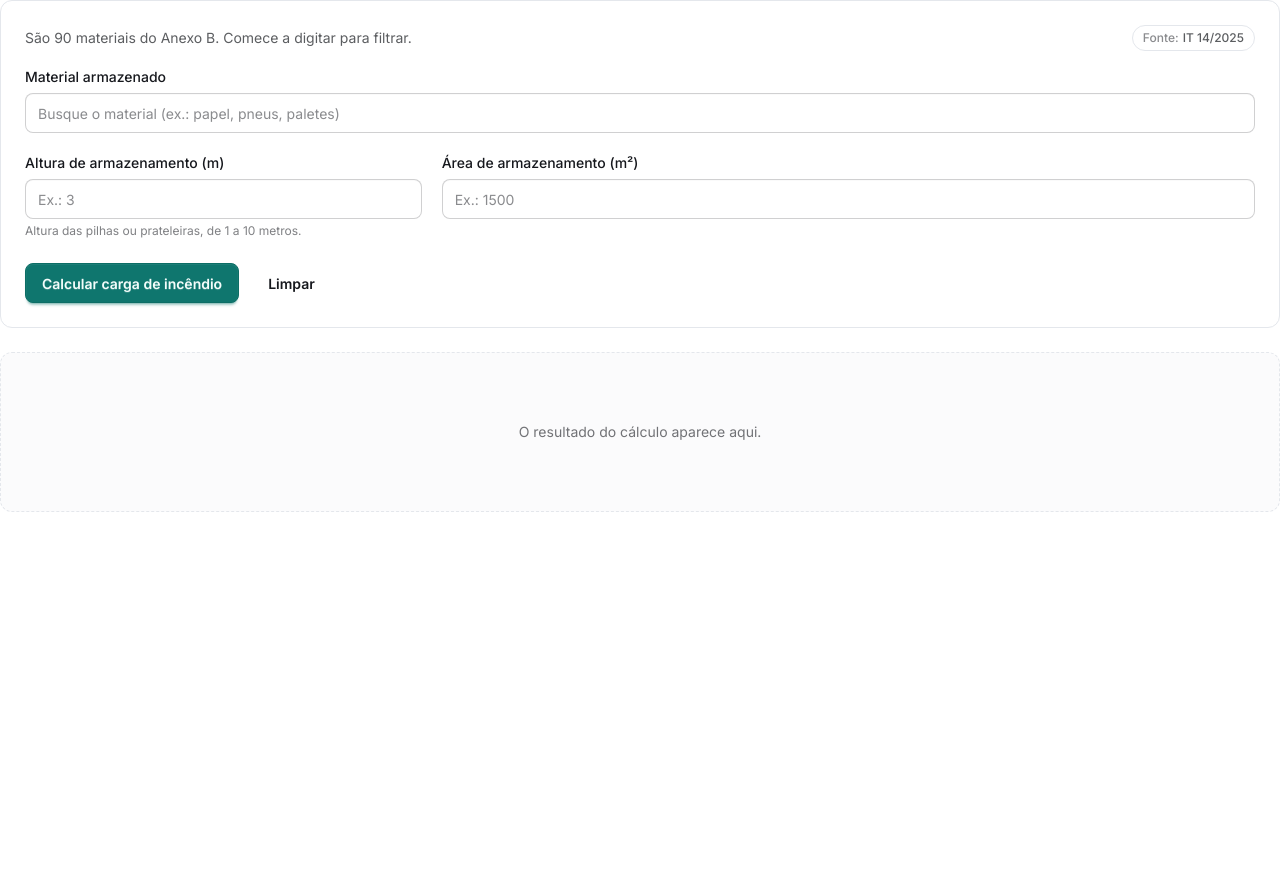
Test: StorageCalculator › should interpolate the load and classify the risk
This screenshot has width=1280, height=886.
Step 1. Type "papel" into the search field labelled "Material armazenado" → [640, 113], box [25,93,1255,133]
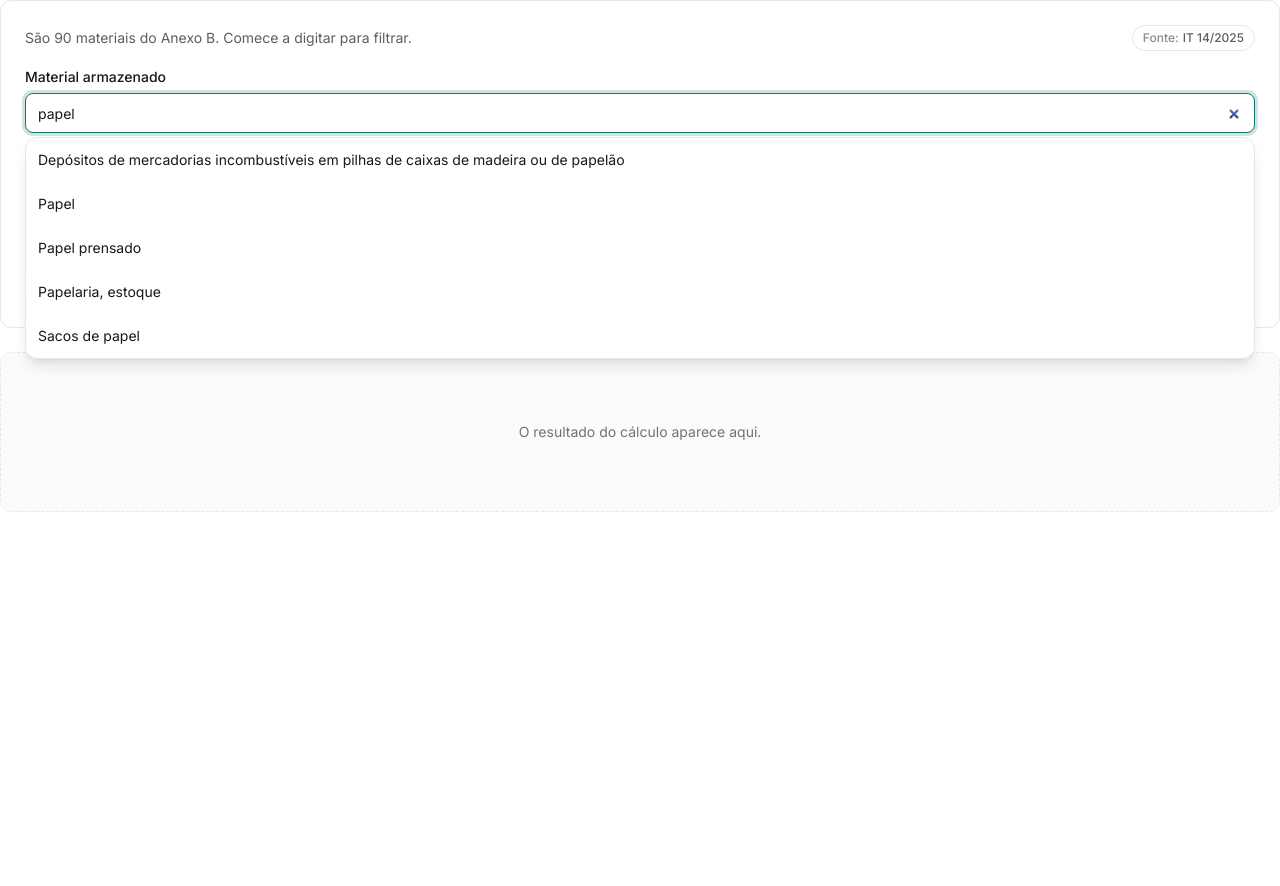
Step 2. Click the button "Papel" → [56, 204], box [26,182,1254,226]
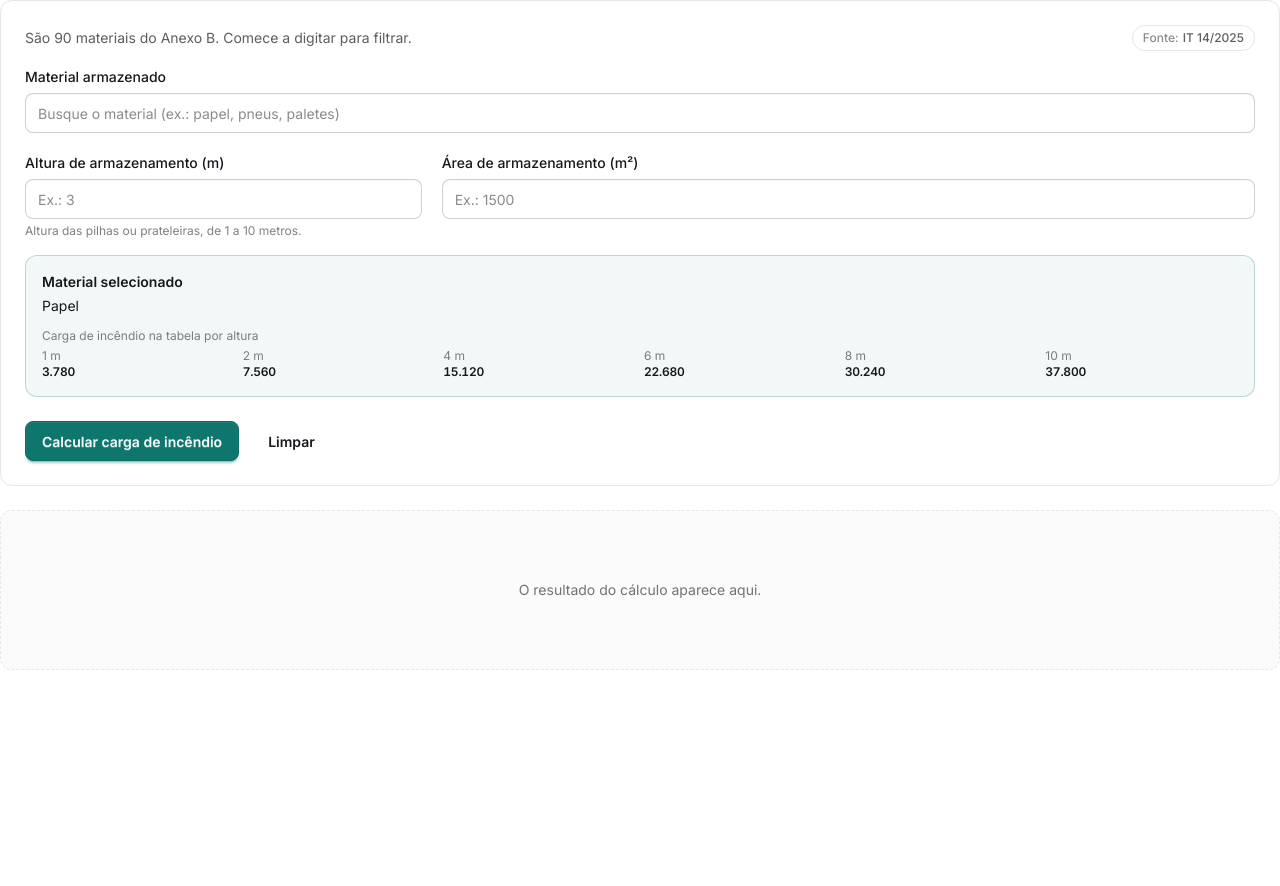
Step 3. Type "3" into the field labelled "Altura de armazenamento (m)" → [223, 199], box [25,179,422,219]
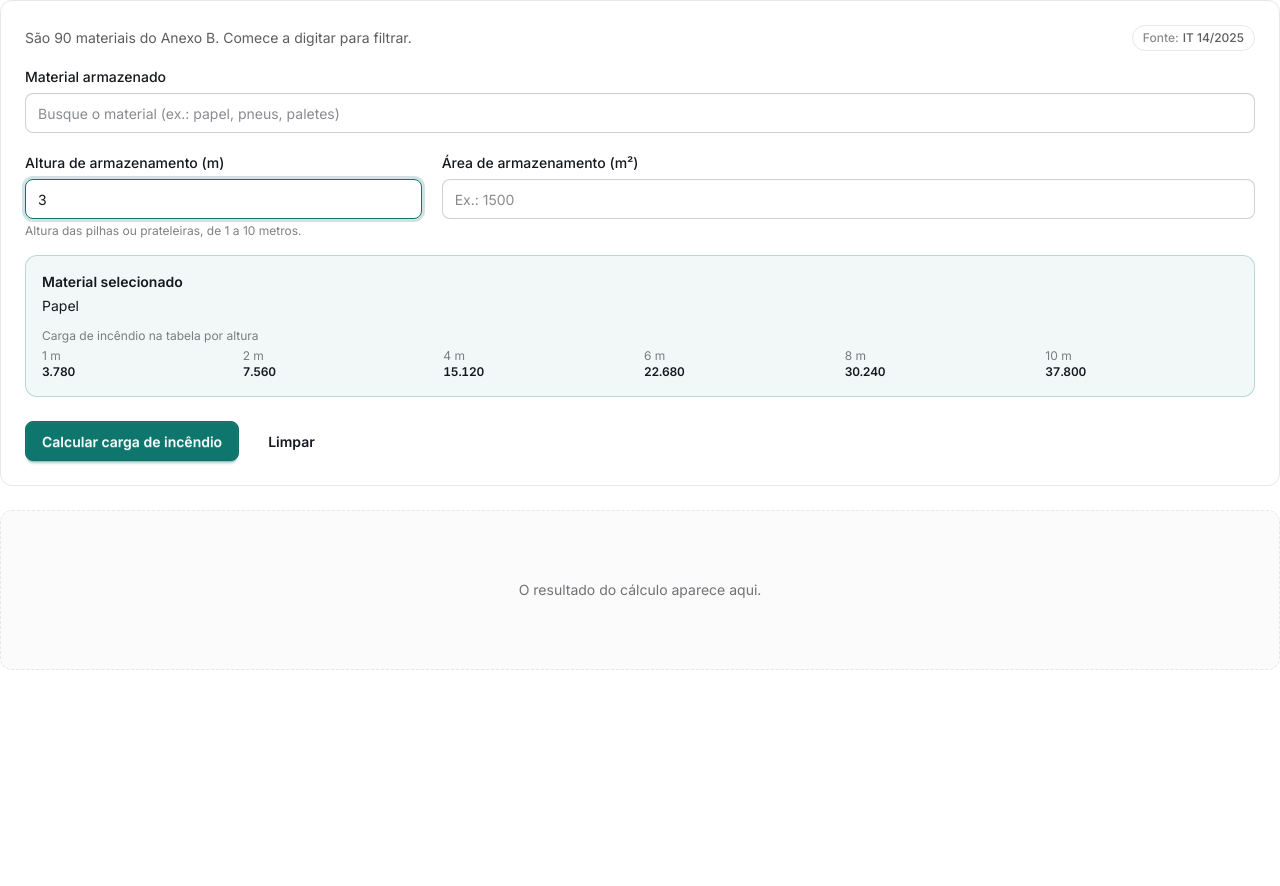
Step 4. Type "1500" into the field labelled "Área de armazenamento (m²)" → [848, 199], box [442,179,1255,219]
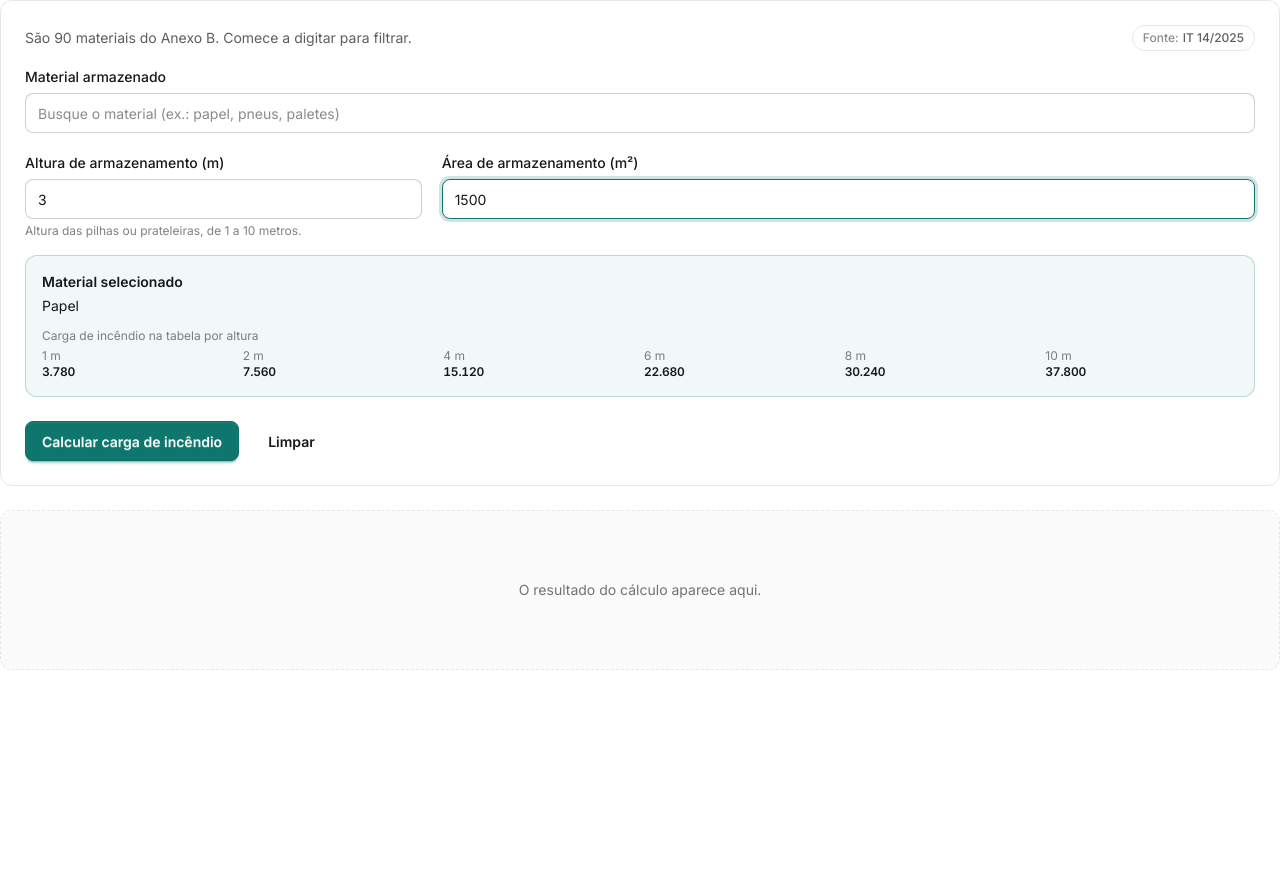
Step 5. Click the button "Calcular carga de incêndio" → [132, 441], box [25,421,239,461]
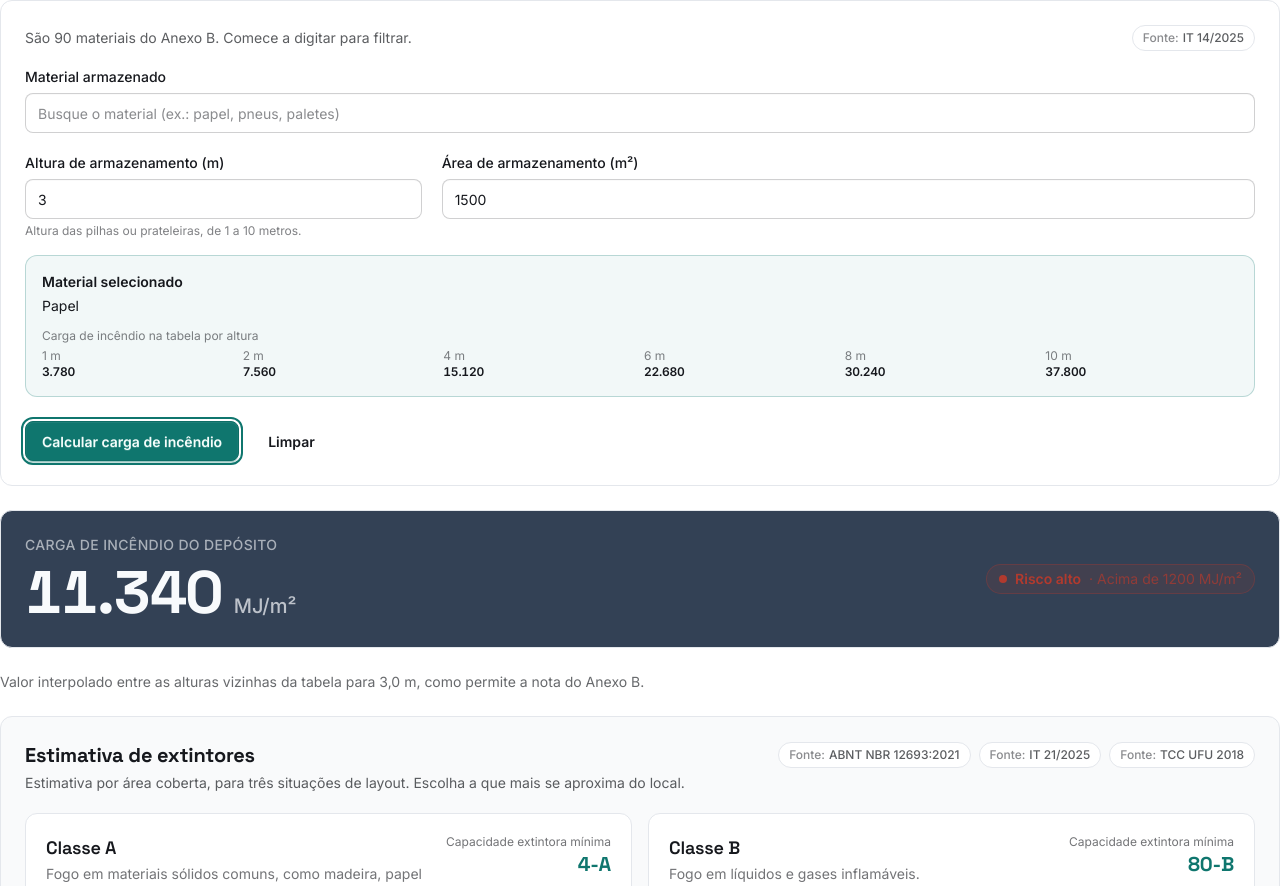
Expected: the text "Carga de incêndio do depósito" is shown, [25,535,296,555]
Expected: the text "11.340" is shown, [25,563,222,623]
Expected: the text "Risco alto" is shown, [1015,570,1081,587]
